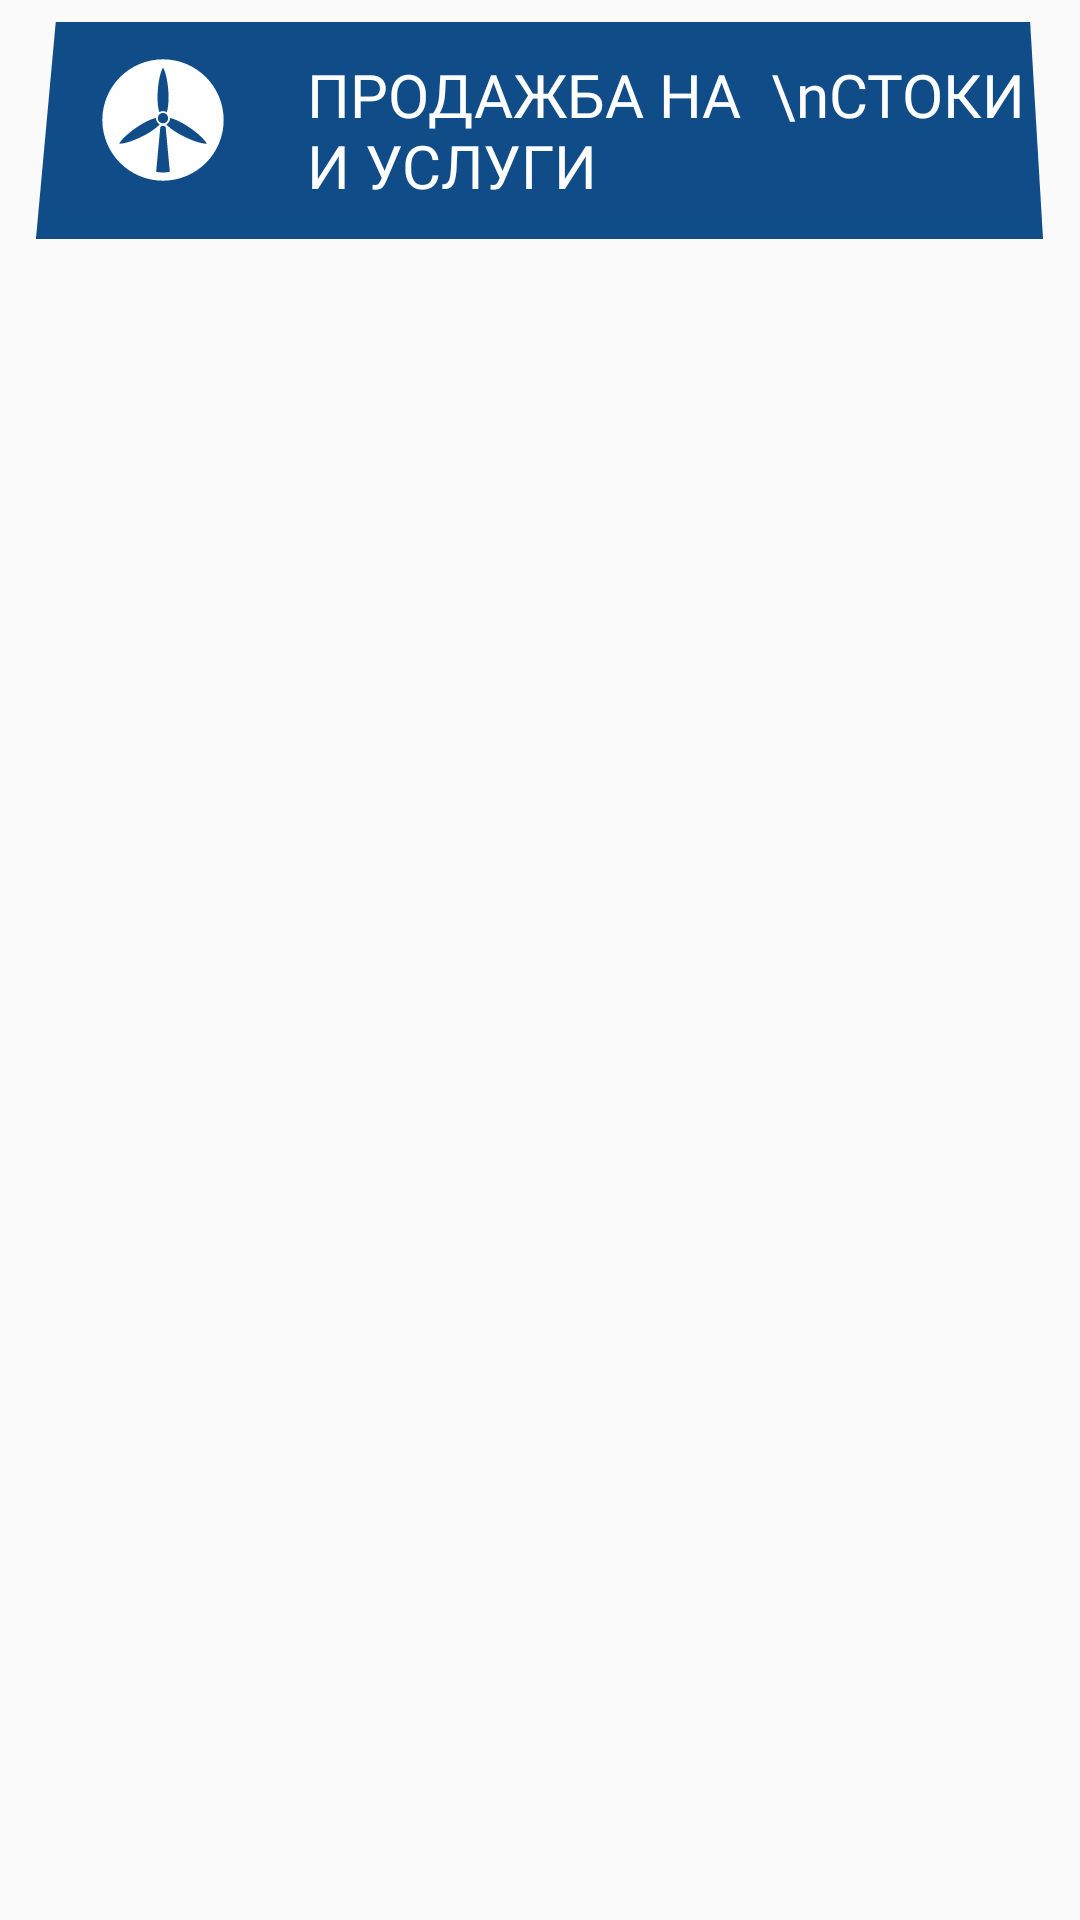

Icon bounding boxes for this 1080×1920 phone screenshot, format region(x1, y1, x2, y2):
windmill: region(102, 59, 224, 181)
